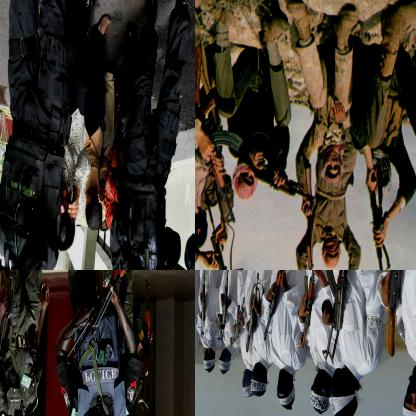rifle: (195, 41, 246, 228), (68, 270, 152, 360), (242, 143, 322, 212), (321, 270, 355, 364), (380, 270, 412, 358), (365, 172, 394, 269), (0, 270, 29, 358), (263, 270, 288, 343), (208, 224, 247, 269), (298, 270, 319, 350), (242, 272, 262, 353), (122, 247, 191, 269), (195, 270, 211, 342), (216, 270, 231, 345), (230, 301, 247, 349)
